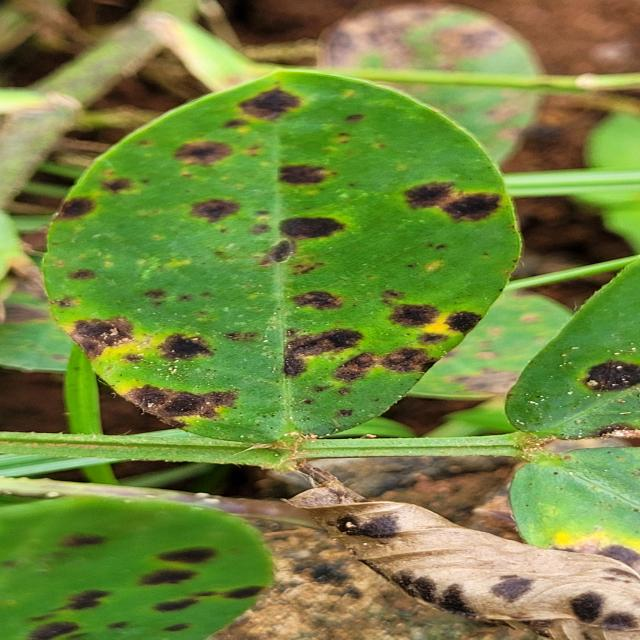Ground nut_tikka leaf spot: (48, 67, 520, 441)
